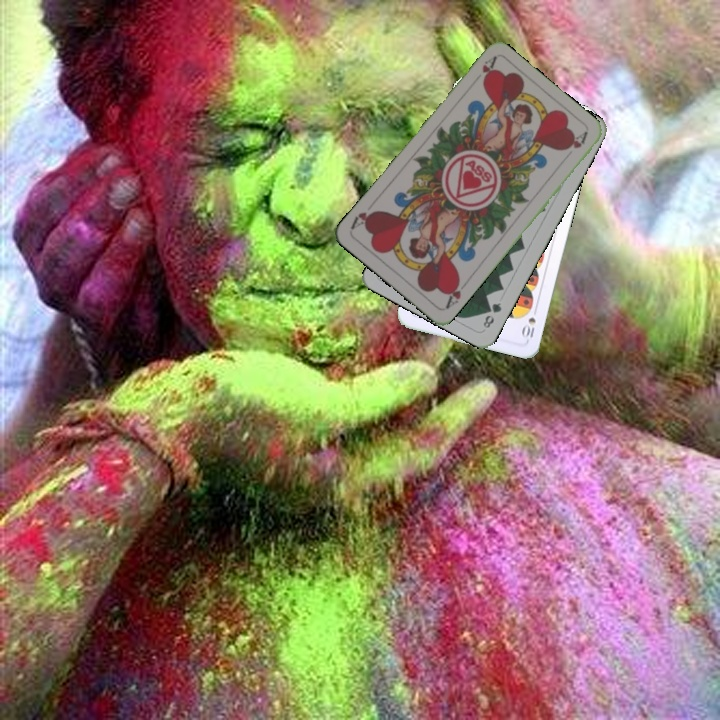G8: (479, 298, 504, 331)
HA: (441, 275, 471, 312), (467, 53, 499, 86)
S10: (519, 303, 540, 340)
